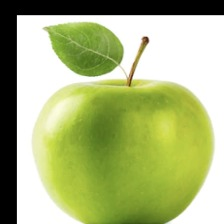apple: (27, 12, 200, 185)
